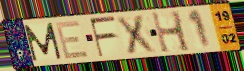1: (186, 8, 213, 51)
E: (53, 18, 91, 60)
F: (88, 14, 118, 59)
H: (149, 9, 193, 55)
M: (22, 21, 64, 63)
X: (114, 13, 160, 55)
